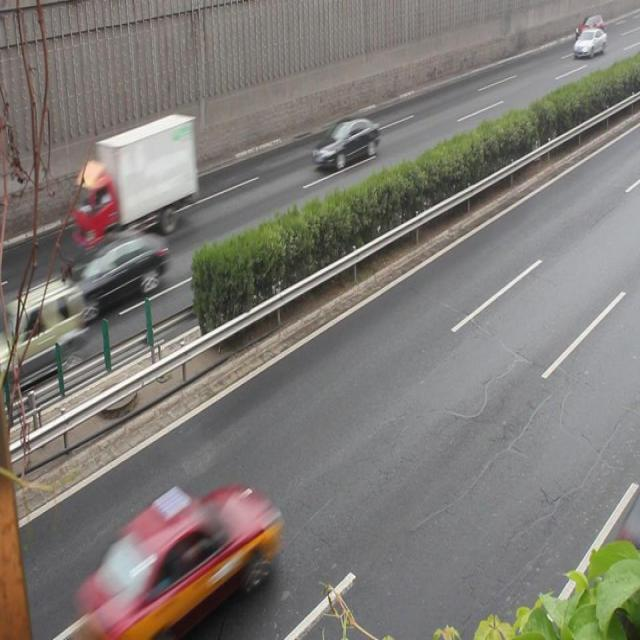car: (78, 489, 276, 627), (65, 230, 165, 321), (312, 112, 378, 170)
